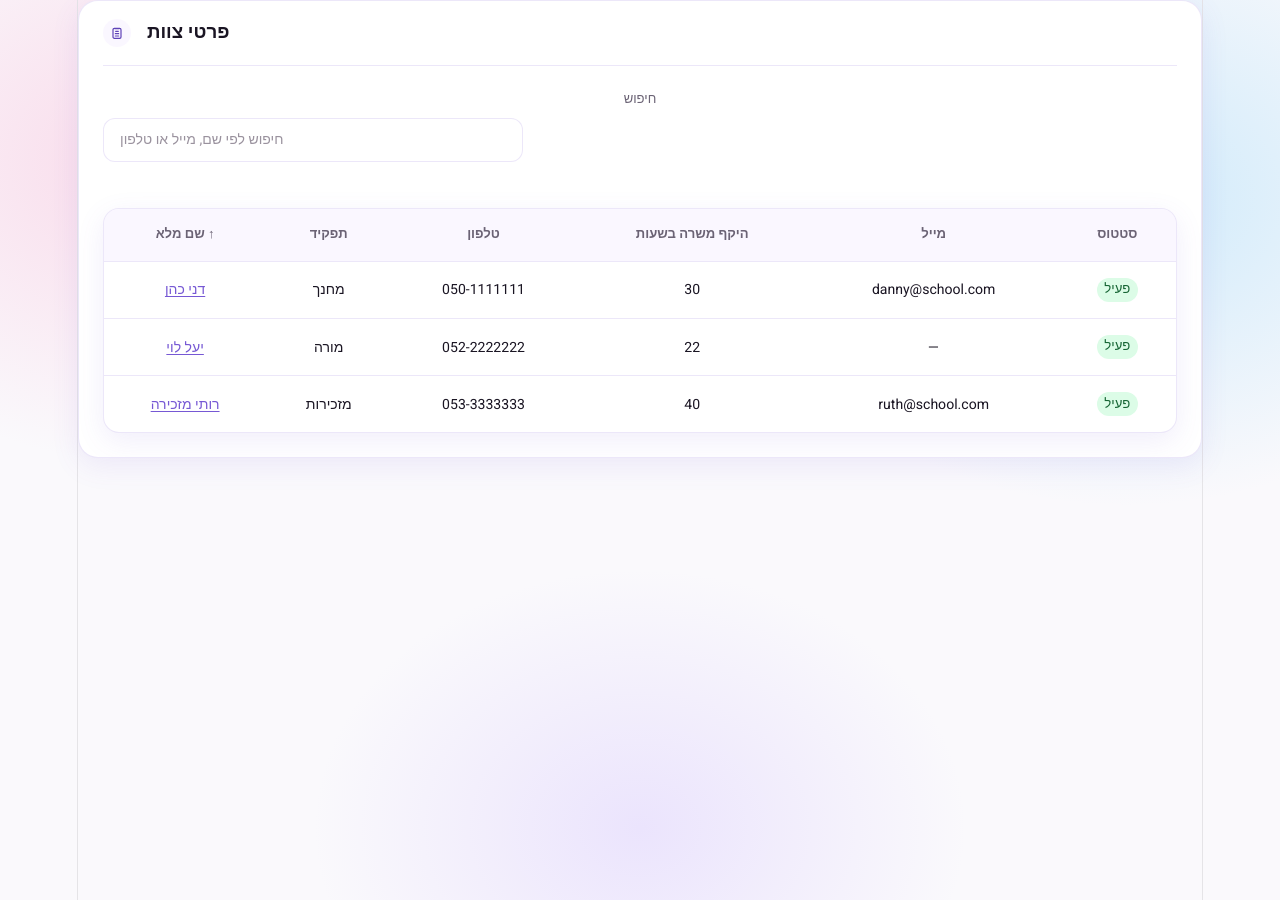
Test: StaffDirectoryPage loading › lets a Deputy open edit for Teacher and Secretary without national_id
Click the button "דני כהן". click: (185,290)
box: [165,279,205,300]
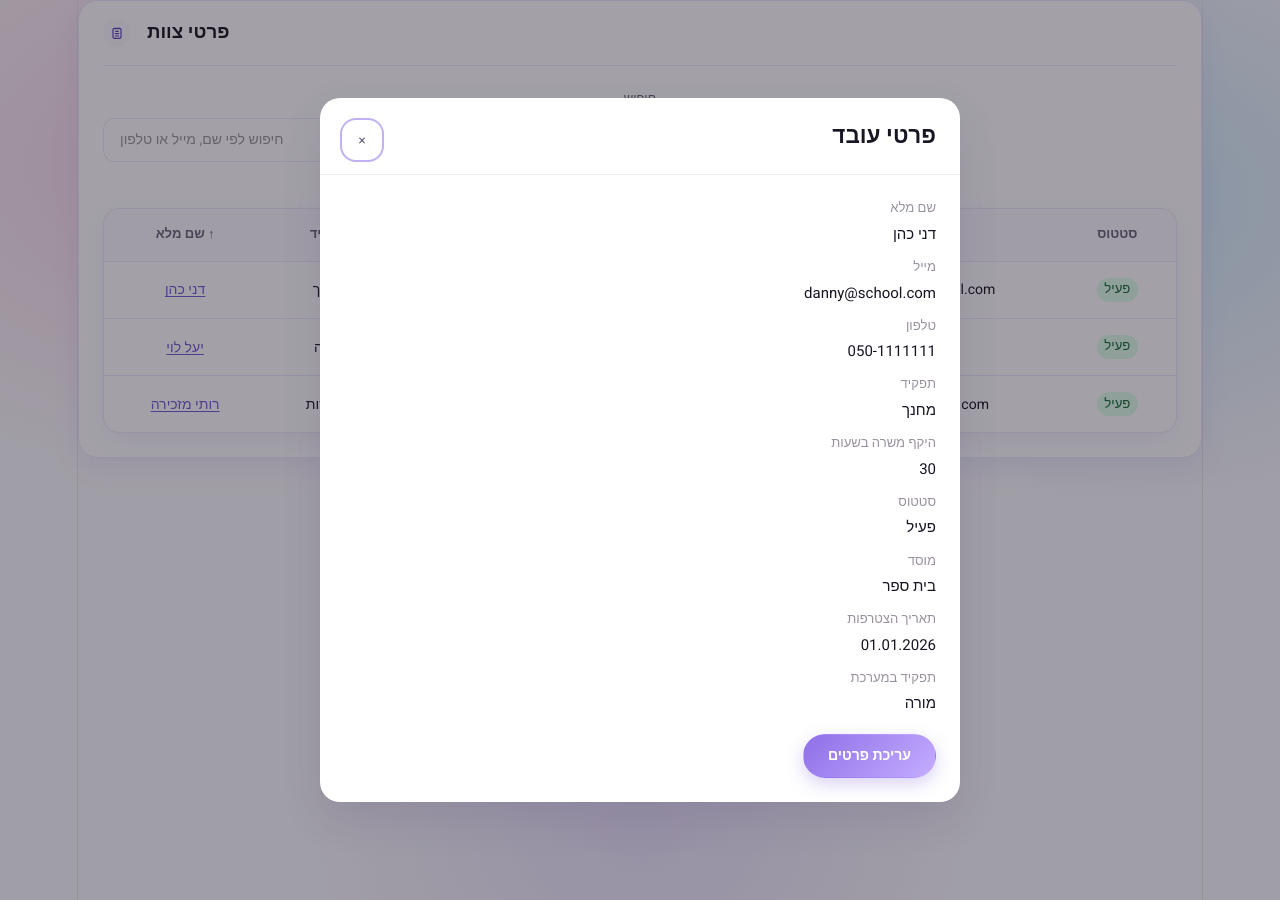
Expected: the button "עריכת פרטים" is shown, [803,734,936,778]
Click the button named "סגירת חלון". click: (362,140)
box: [344,122,380,158]
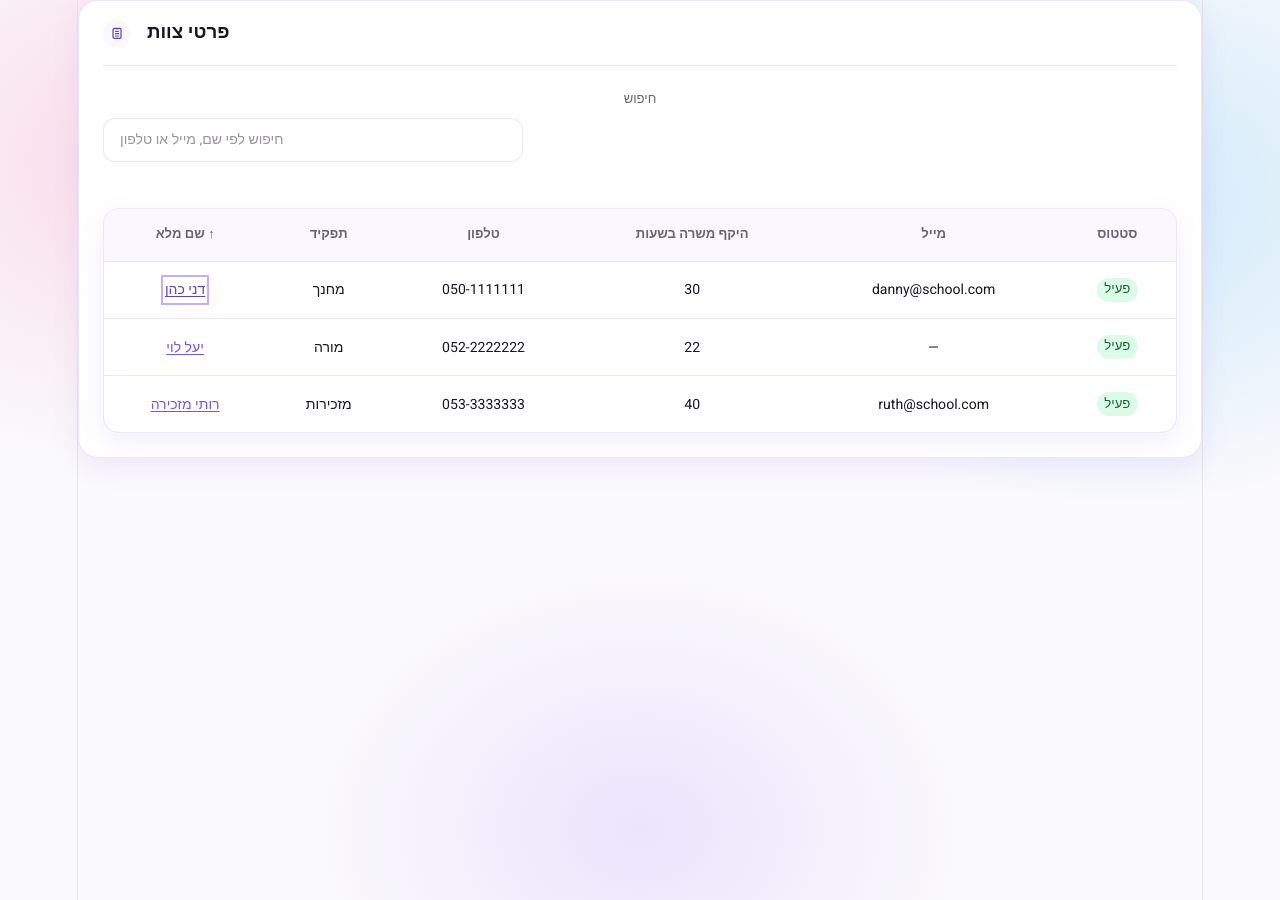
Click the button "רותי מזכירה". click: (185,404)
box: [151,394,220,415]
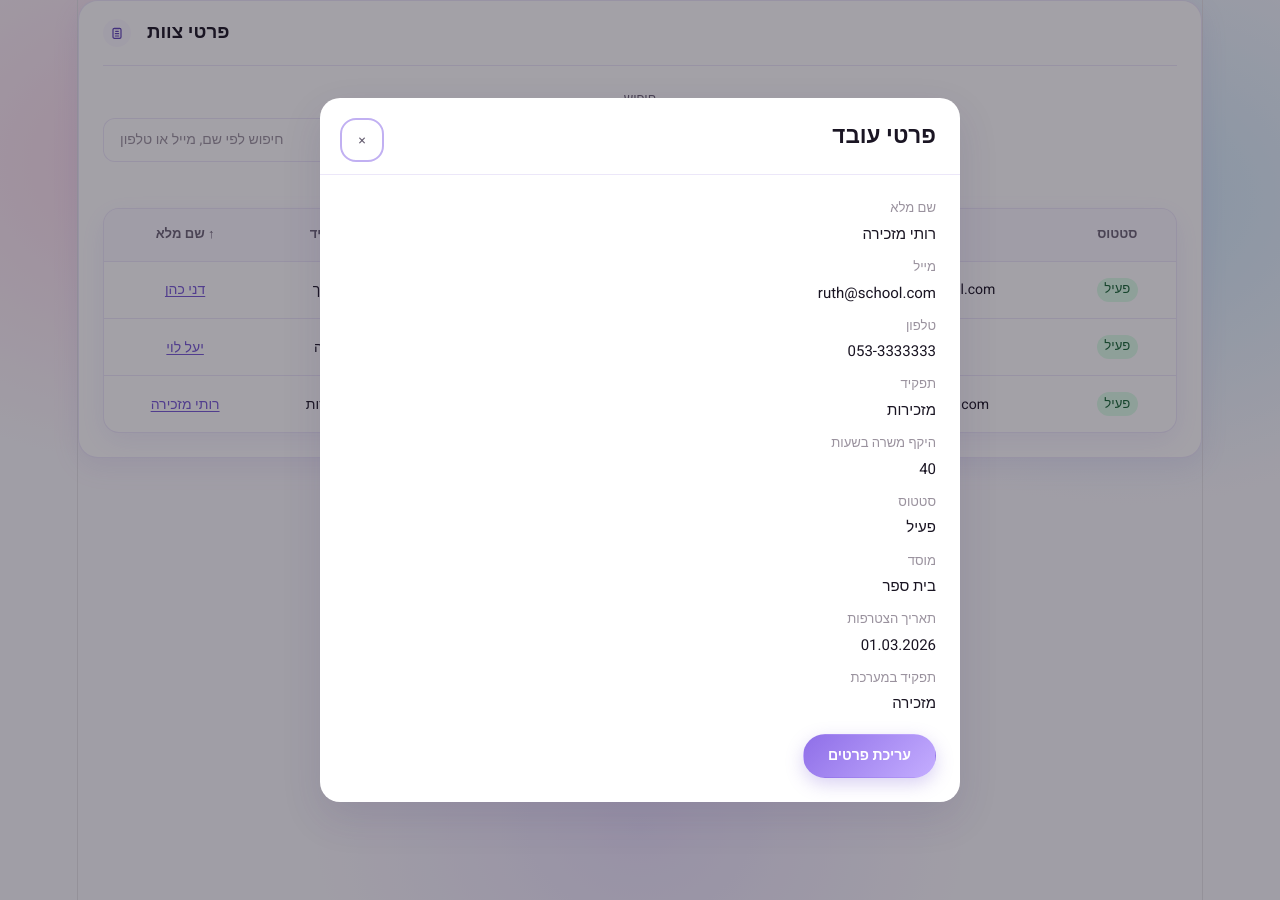
Expected: the button "עריכת פרטים" is shown, [803,734,936,778]
